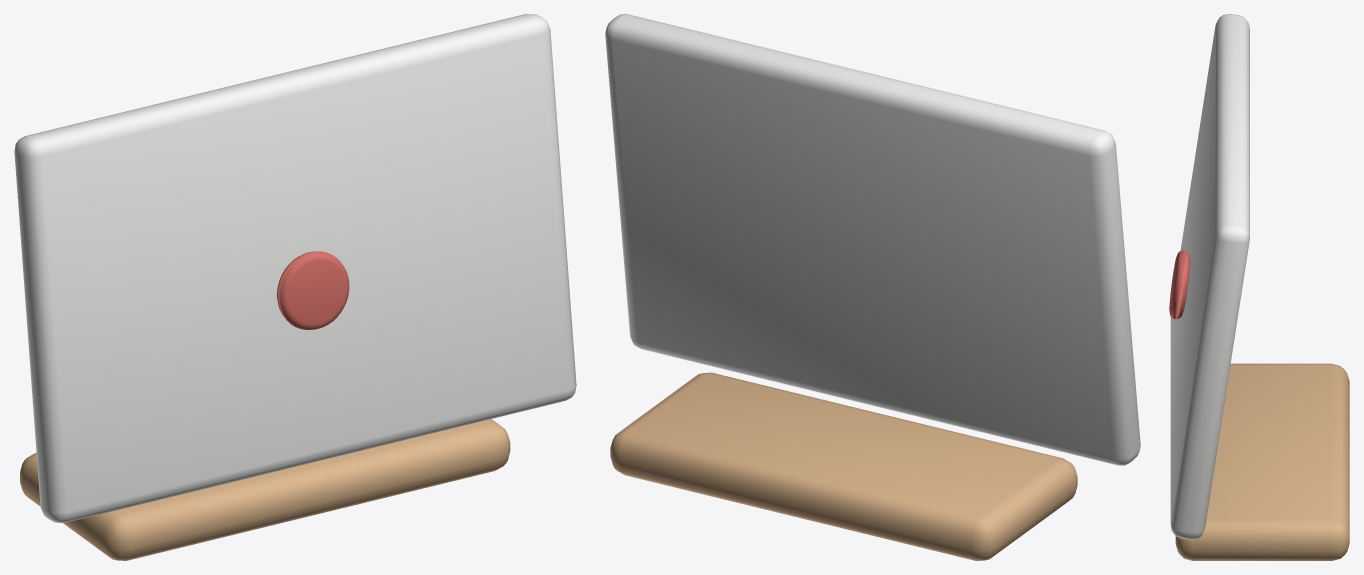
The model's file is links--mail.glb.
3 views of the same model, side by side, from view 1: azimuth 30°, elevation 25°; view 2: azimuth 150°, elevation 25°; view 3: azimuth 270°, elevation 25° (orthographic). The views are drawn at different scales.
Visible parts, largest first — view 1: links--mail; view 2: links--mail; view 3: links--mail.
Part boxes in pixels (bbox=[...]): links--mail: bbox=[14, 14, 576, 560]; links--mail: bbox=[605, 14, 1140, 560]; links--mail: bbox=[1169, 14, 1349, 560].
Size of the model in its own units: 0.6001 by 0.4587 by 0.207.
